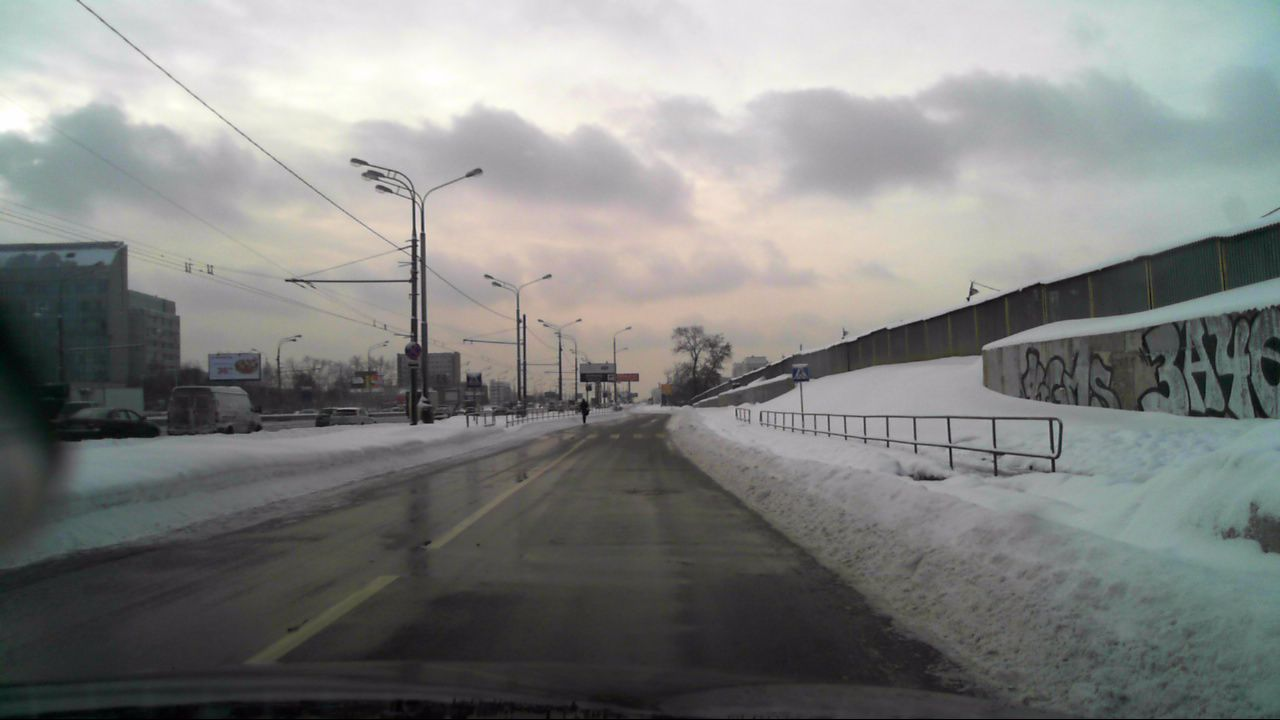No Parking: (403, 341, 422, 360)
